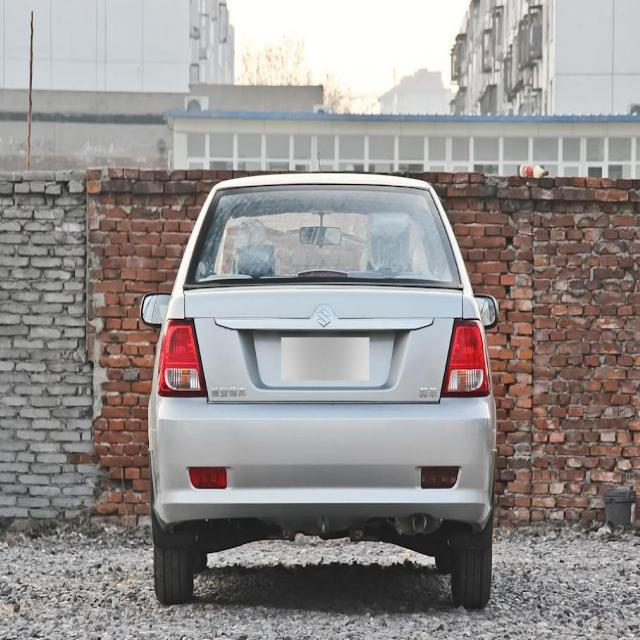back_glass: (181, 183, 463, 290)
back_left_side_light: (154, 316, 211, 402)
back_right_side_light: (438, 316, 492, 400)
front_left_side_mirror: (140, 290, 176, 330)
front_right_side_mirror: (474, 290, 501, 332)
rear_bumper: (146, 388, 495, 534)
wheel: (152, 524, 195, 606), (450, 528, 492, 610)
